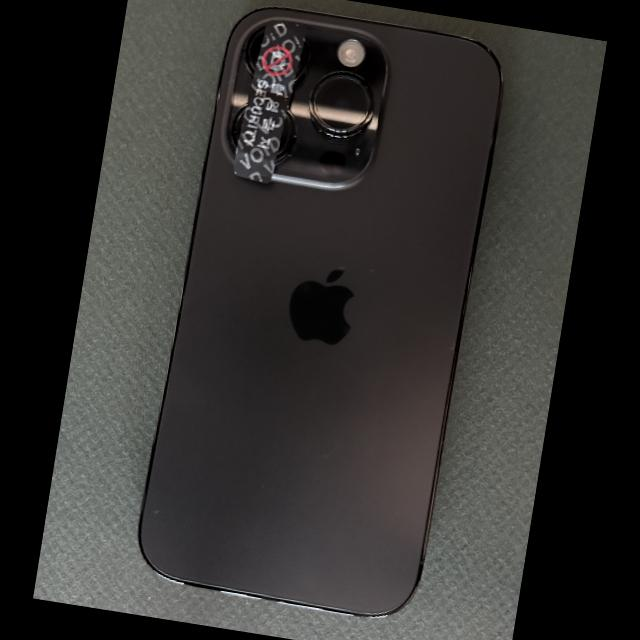lens: (309, 71, 375, 139), (276, 112, 297, 162), (245, 26, 265, 73)
phone: (138, 6, 505, 621)
sticker: (233, 21, 307, 184)
